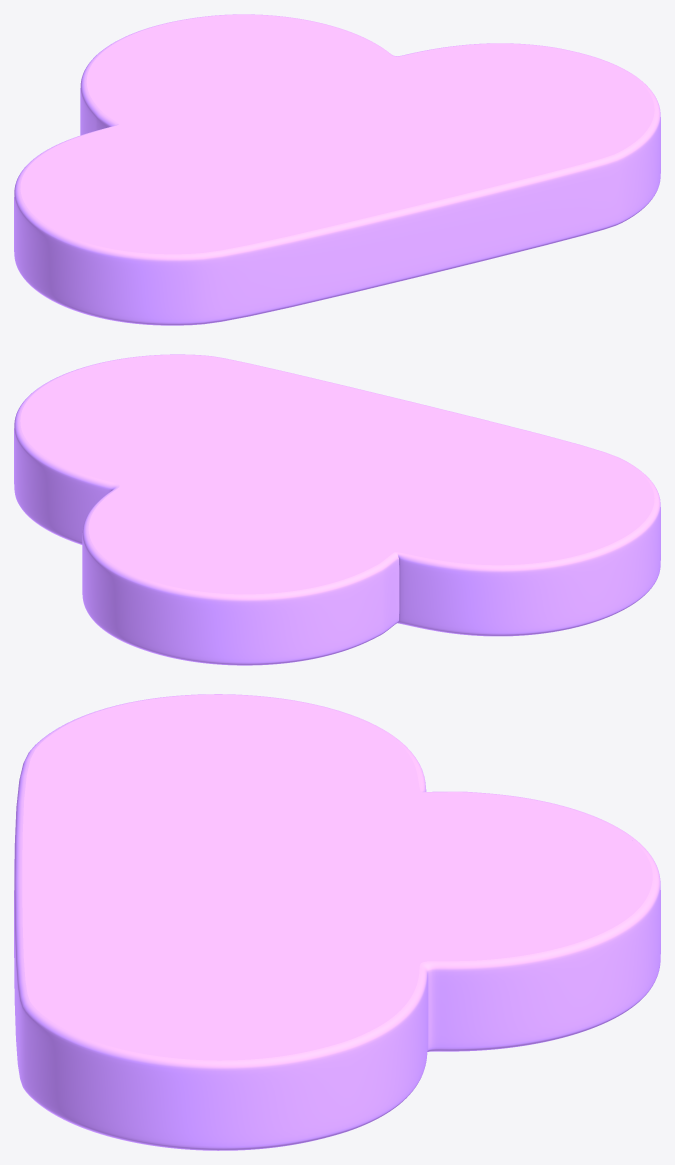
The model's file is r2drop-cloud.glb.
3 views of the same model, one above another, from view 1: azimuth 30°, elevation 25°; view 2: azimuth 150°, elevation 25°; view 3: azimuth 270°, elevation 25° (orthographic). The views are drawn at different scales.
Parts seen in each view (by area): view 1: Curve; view 2: Curve; view 3: Curve.
Part boxes in pixels (bbox=[...]): Curve: bbox=[14, 14, 660, 325]; Curve: bbox=[14, 354, 660, 665]; Curve: bbox=[14, 694, 660, 1150].
Size of the model in its own units: 2 by 0.2246 by 1.47.
